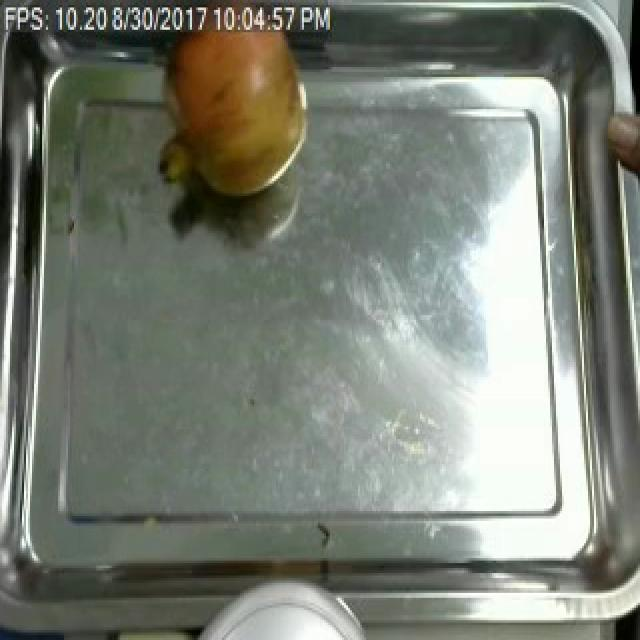fruit: (156, 5, 316, 208), (606, 92, 640, 193)
